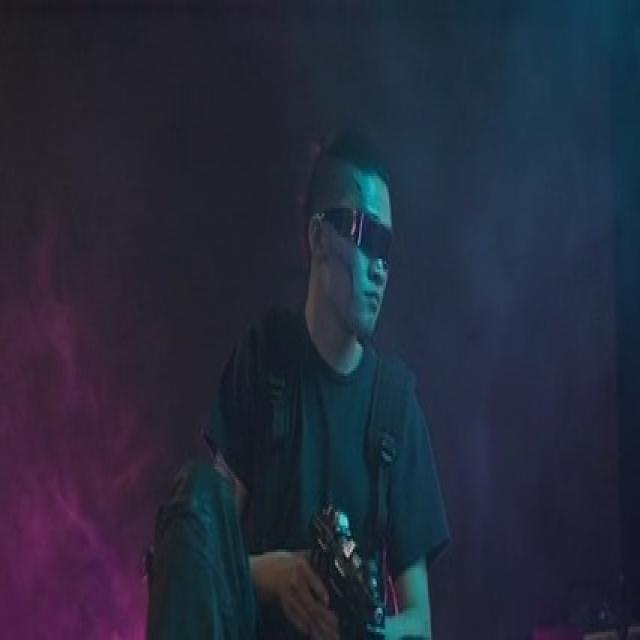Gun_Holder: (267, 498, 412, 640)
Person: (138, 135, 447, 640)
